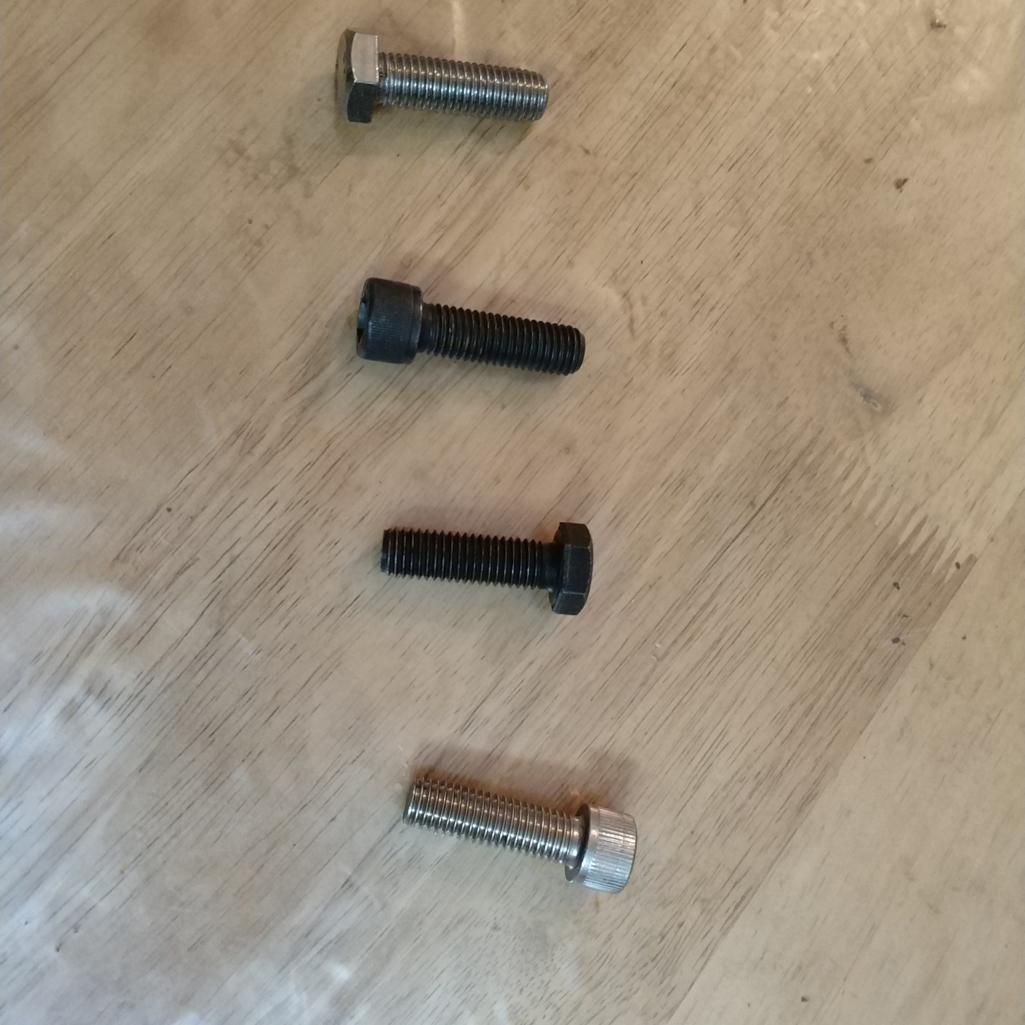screwtype1black: (338, 264, 595, 394)
screwtype1silver: (392, 755, 649, 916)
screwtype2black: (356, 503, 601, 628)
screwtype2silver: (318, 16, 555, 146)
